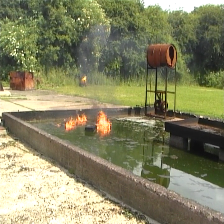fire_h: (65, 114, 86, 132), (96, 111, 111, 135)
